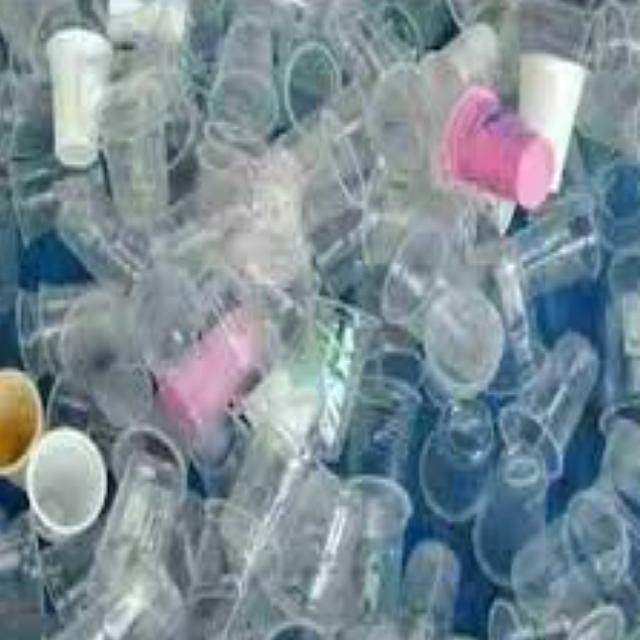GelasPlastik: (14, 8, 632, 632)
